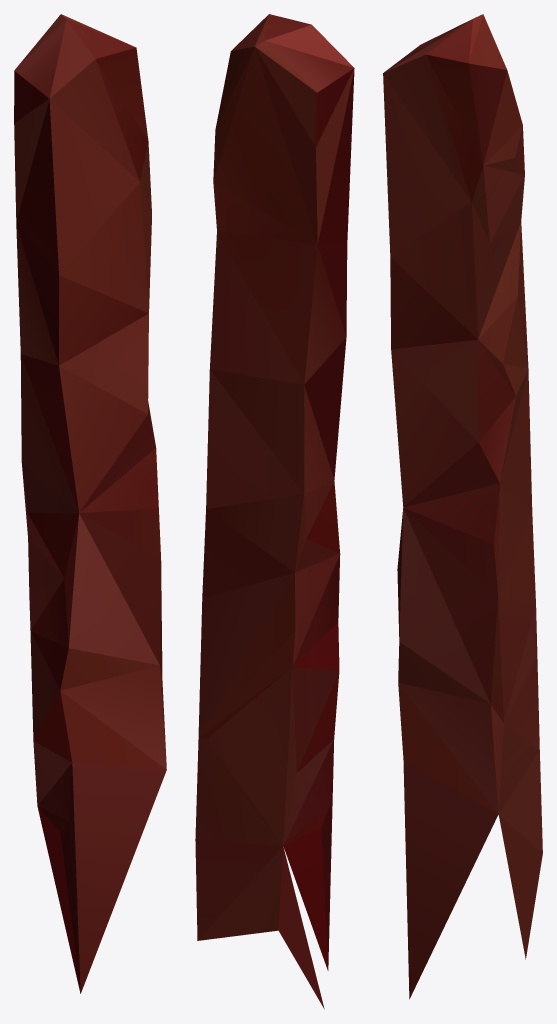
Rendered from brace.glb.
3 renders of one model, left to right at view 1: azimuth 30°, elevation 25°; view 2: azimuth 150°, elevation 25°; view 3: azimuth 330°, elevation 25°, orthographic.
Parts seen in each view (by area): view 1: geometry_0; view 2: geometry_0; view 3: geometry_0.
Part boxes in pixels (<box>): geometry_0: <box>14,14,166,993</box>; geometry_0: <box>195,14,354,1009</box>; geometry_0: <box>383,14,542,999</box>.
Size of the model in its own units: 0.045 by 0.33 by 0.03.
Materials: 1 (1 with a texture image).
